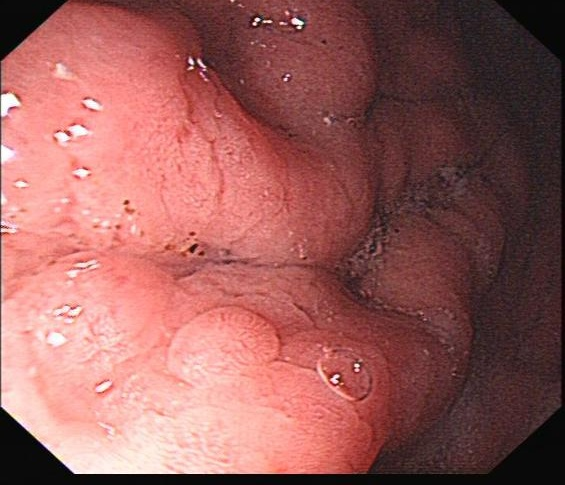Polyp: (149, 300, 290, 391)
